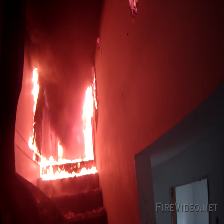fire_h: (82, 73, 96, 160), (41, 168, 99, 180), (28, 122, 42, 161), (40, 156, 85, 167), (31, 66, 40, 118)
fire_l: (57, 142, 63, 166), (130, 1, 137, 15), (96, 37, 100, 43)
